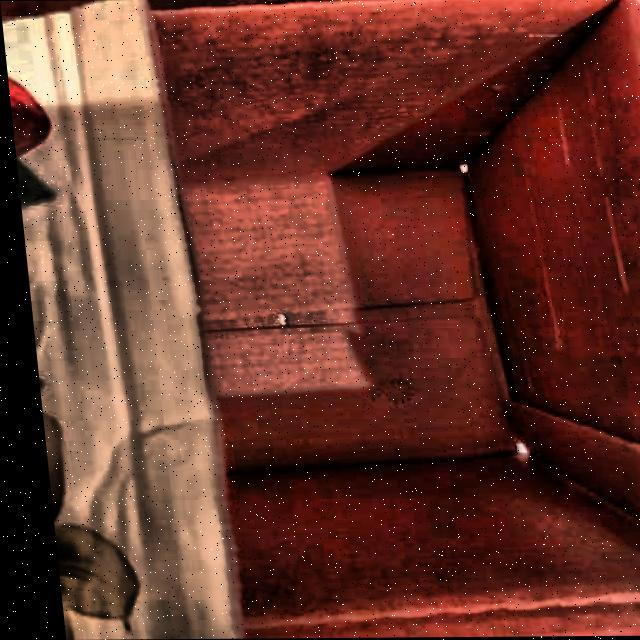cardboard: (138, 0, 640, 638)
